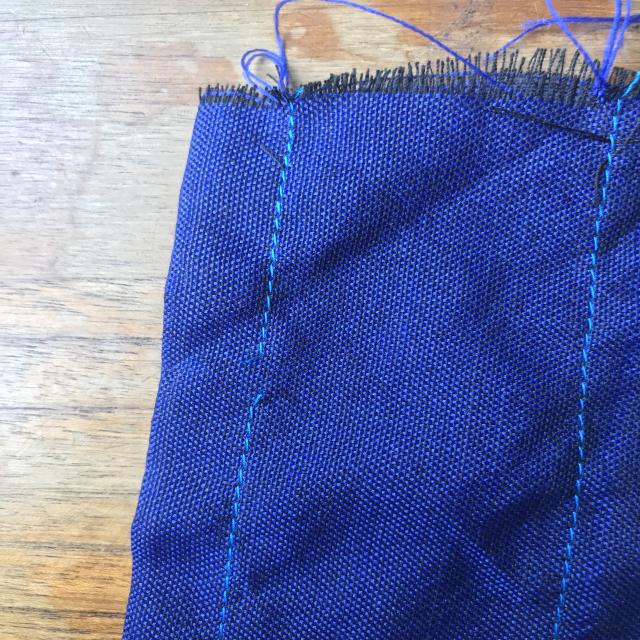broken: (231, 318, 289, 428)
good: (575, 310, 601, 422)
